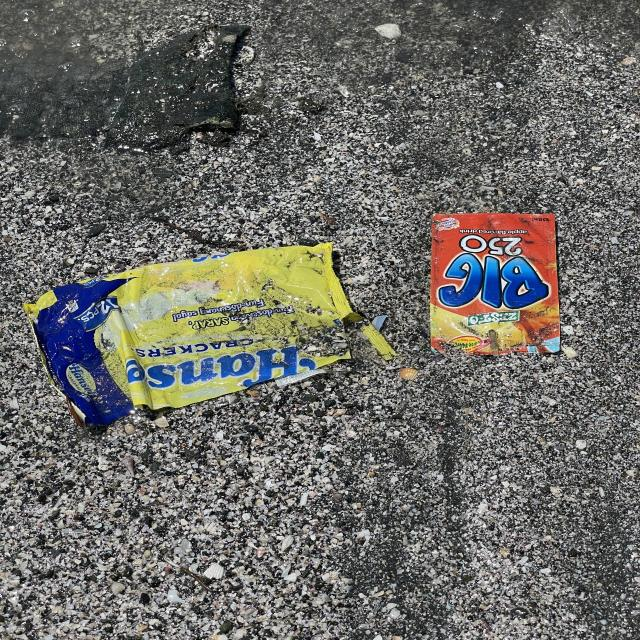plastic_waste: (22, 245, 398, 425), (432, 213, 566, 357)
